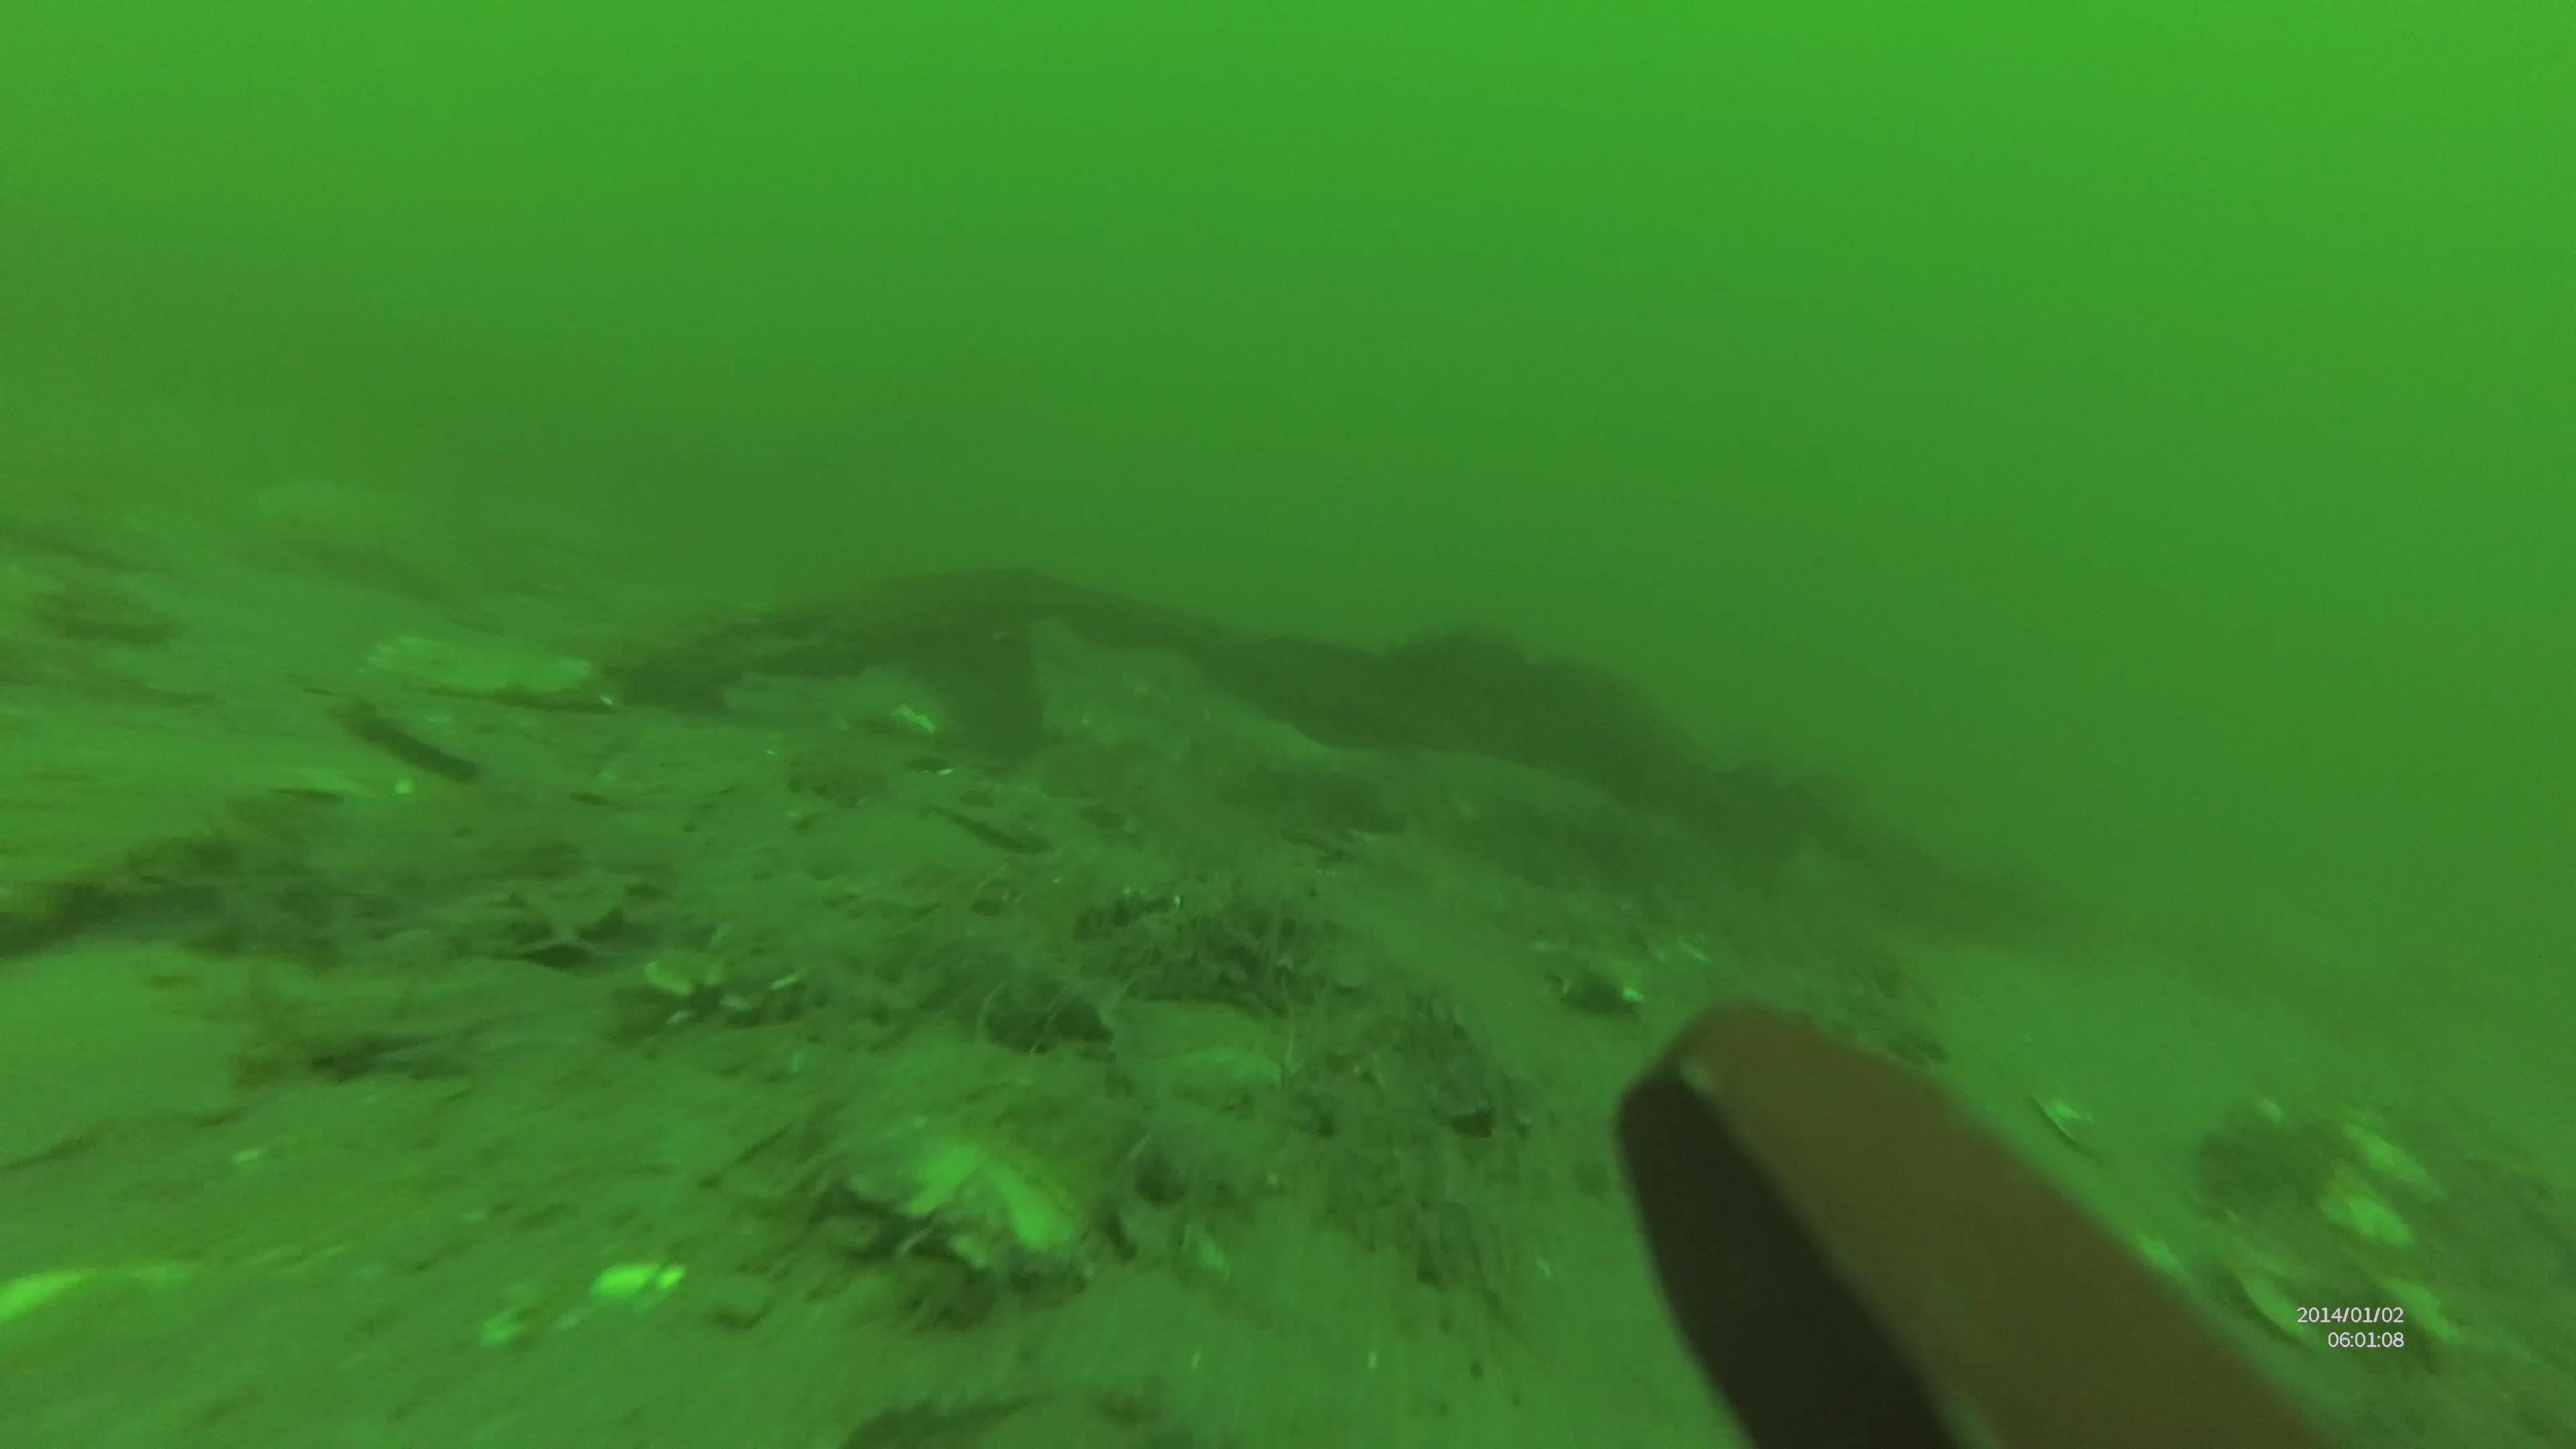echinus: (2199, 1115, 2298, 1214)
starfish: (7, 929, 248, 1178), (182, 835, 340, 962), (1536, 936, 1656, 1014)
